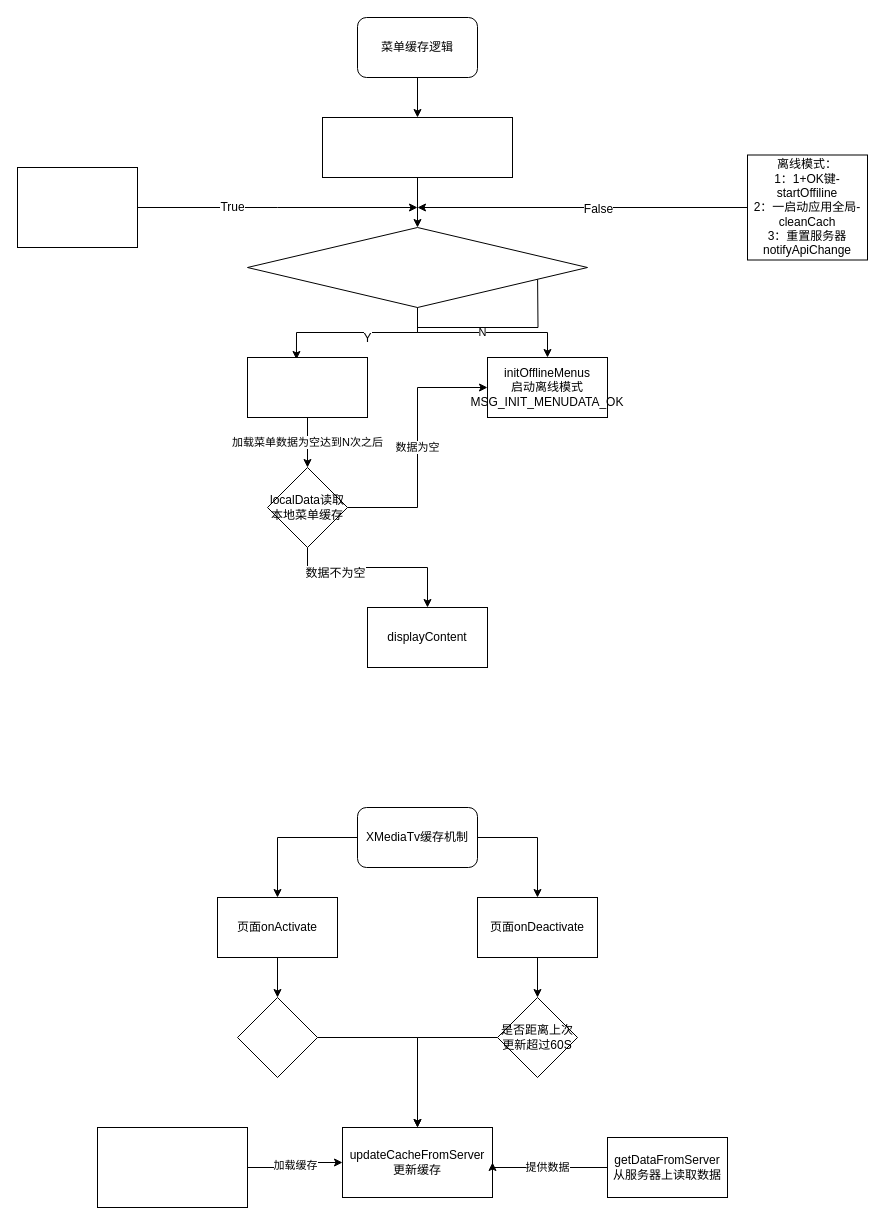
Some shapes in this 885 by 1225 pixel diagram are drawn without their labels. The shapes that lost their labels are listed below. From the top down, each one's centre as x and y in pixels, then its label:
At (417,147): "HomeNavigation.initNavigationView 初始化导航栏".
At (77,207): "1:LoginTask 登录成功 2:refreshApiInfo".
At (417,267): "XMSharedUtil.newInstance().isUserActive()".
At (307,387): "MenusTask 加载菜单".
At (277,1037): "是否第一次？ mLastUpdateTime == 0".
At (172,1167): "updateViewFromCache （更新视图-从缓存）".
